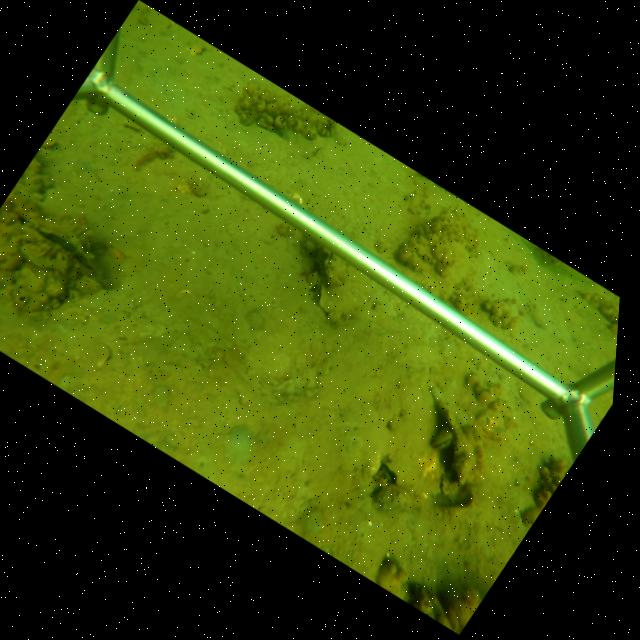Oyster-Closed: (17, 214, 120, 293), (312, 282, 332, 320)
